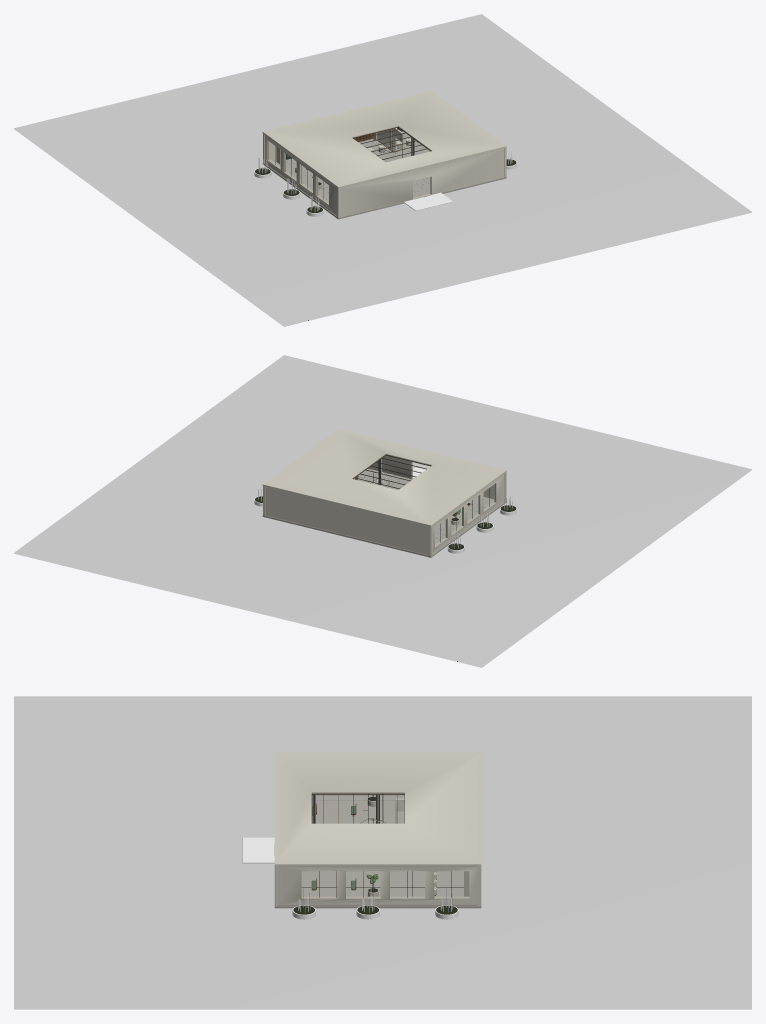
File: headquarters-browser-unquantized-v1.glb
3 views of the same model, one above another, from view 1: azimuth 30°, elevation 25°; view 2: azimuth 150°, elevation 25°; view 3: azimuth 270°, elevation 25° (orthographic). The views are drawn at different scales.
Visible parts, largest first — view 1: Architecture exterior, Architecture shell, Architecture floor; view 2: Architecture exterior, Architecture shell, Architecture floor; view 3: Architecture exterior, Architecture shell, Architecture floor, Architecture furnishings.
Boxes of the visible parts, x1,y1,x2,y2 form: Architecture exterior: (14,14,751,326); Architecture shell: (262,91,506,217); Architecture floor: (262,131,506,219); Architecture exterior: (14,355,751,667); Architecture shell: (262,429,506,555); Architecture floor: (262,468,506,557); Architecture exterior: (14,696,751,1009); Architecture shell: (274,752,481,906); Architecture floor: (274,795,481,908); Architecture furnishings: (311,795,436,896).
Size of the model in its own units: 150 by 10.22 by 150.
23 materials, 18 textured.
